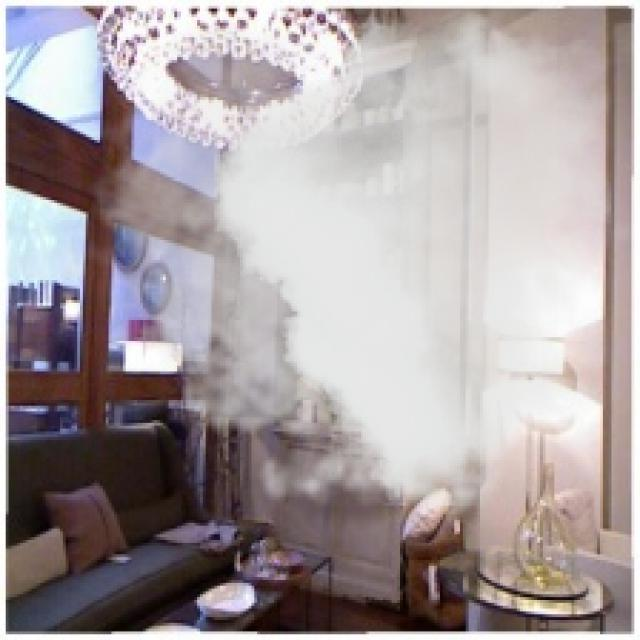Smoke: (74, 9, 612, 538)
